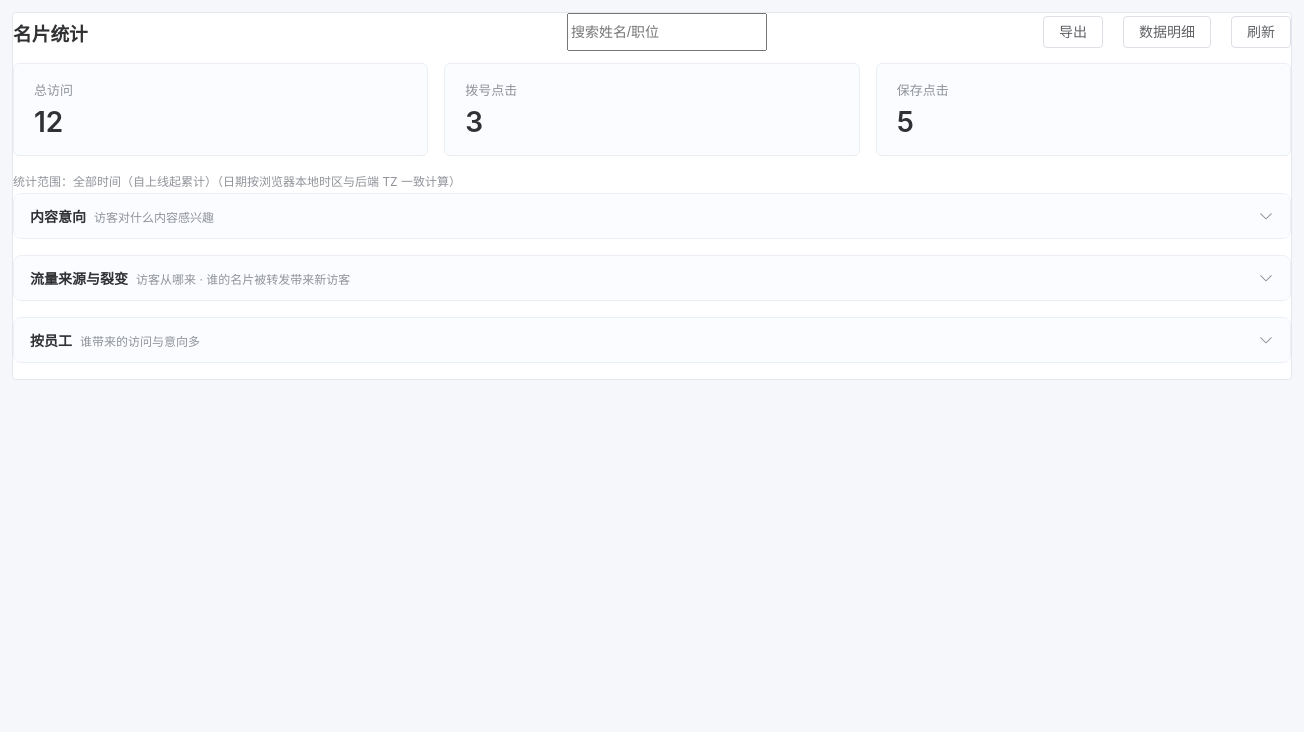
Test: Stats › 流量来源与裂变折叠区：默认收起，展开后渲染来源分布条 + 裂变榜
Click the 2nd element with class "fold-head".
click(652, 278)  # box x1=14 y1=256 x2=1290 y2=300
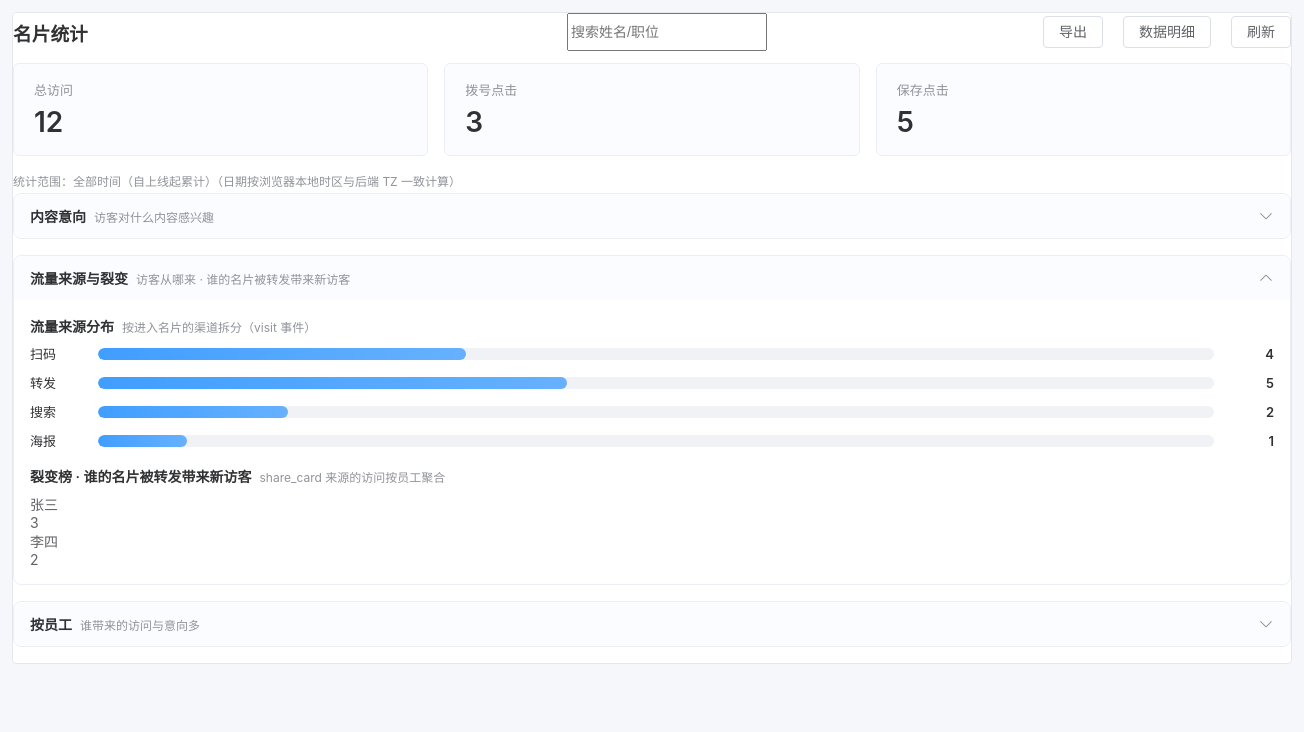
Expected: the number of elements with class "src-row" is 4, x1=30 y1=344 x2=1274 y2=363; x1=30 y1=373 x2=1274 y2=392; x1=30 y1=402 x2=1274 y2=421; x1=30 y1=431 x2=1274 y2=450
Expected: the text with class "src-label" reads "扫码", x1=30 y1=346 x2=56 y2=362
Expected: the text with class "src-count" reads "4", x1=1265 y1=346 x2=1274 y2=362
